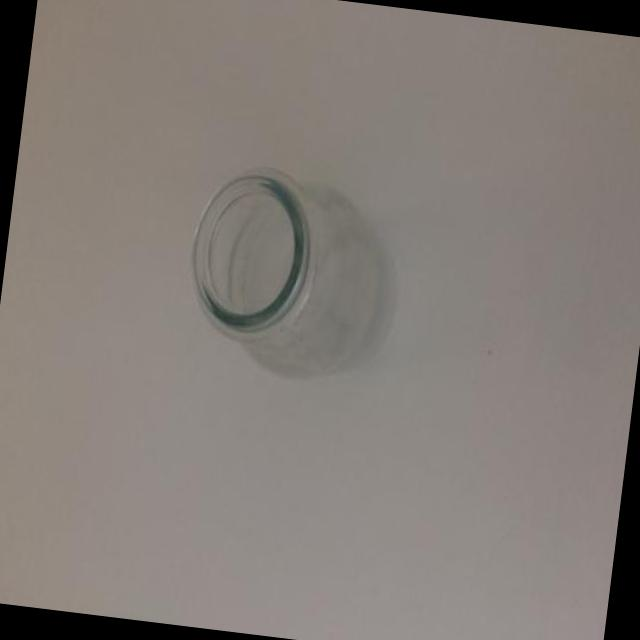chai_thuy_tinh: (189, 164, 400, 377)
